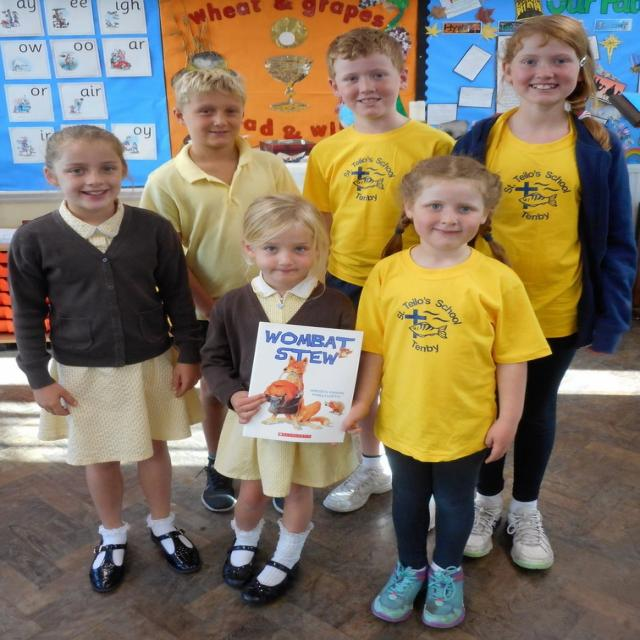body: (436, 9, 638, 577), (334, 152, 554, 633), (1, 123, 208, 600), (300, 23, 459, 514), (137, 63, 303, 515), (197, 190, 364, 610)
